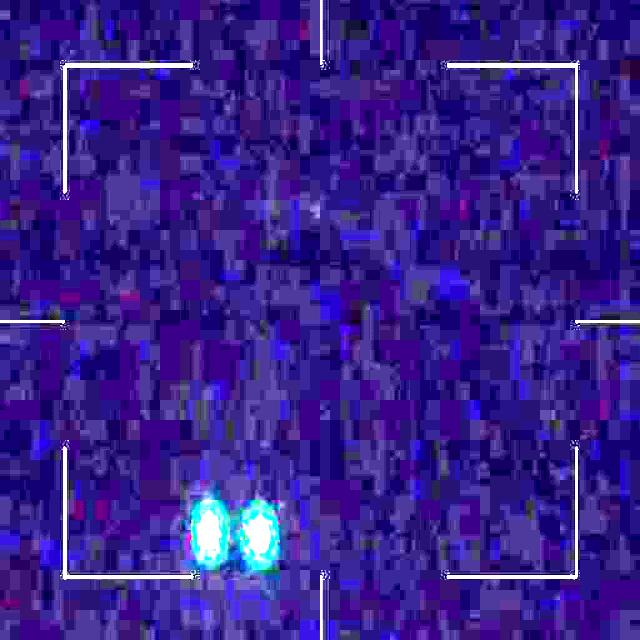bird: (196, 504, 274, 560)
